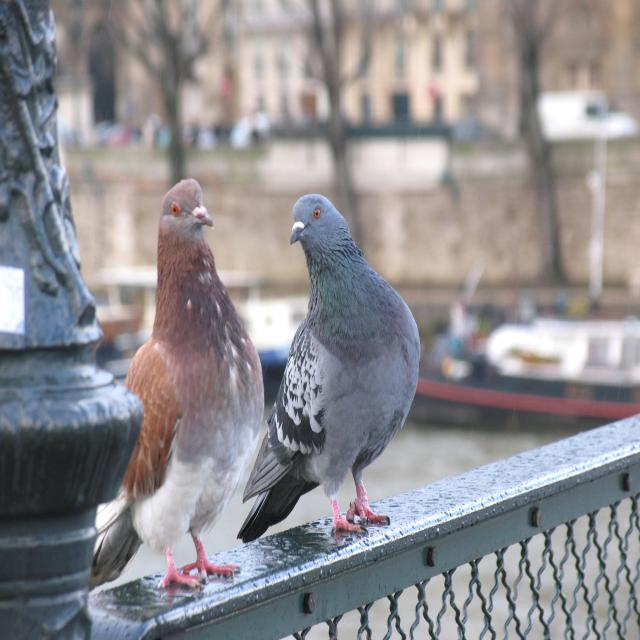bird: (134, 165, 277, 579), (273, 180, 437, 516)
